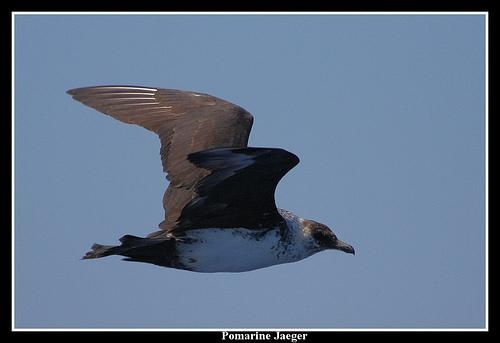bird: (63, 84, 362, 269)
